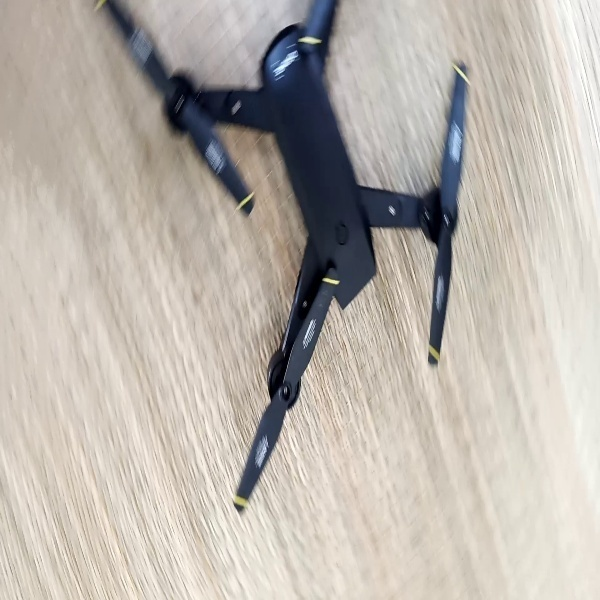drone: (88, 1, 473, 512)
